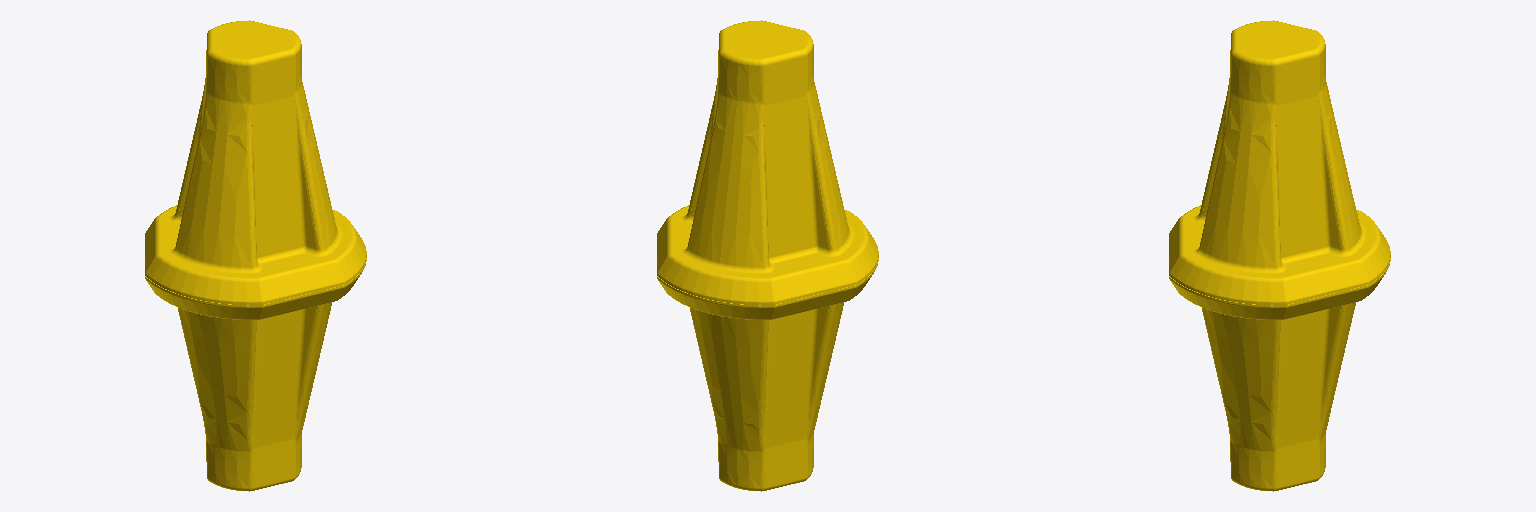
robot.urdf — override_pin_yellow_yellow:
<?xml version='1.0' encoding='utf-8'?>
<robot name="override_pin_yellow_yellow">
  <link name="pin">
    <inertial>
      <mass value="0.075" />
      <origin xyz="0 0 0" rpy="0 0 0" />
      <inertia ixx="0.000183825" iyy="0.000183825" izz="0.000183825" ixy="0" ixz="0" iyz="0" />
    </inertial>
    <visual>
      <geometry>
        <mesh filename="../meshes/override/pin_upper.obj" />
      </geometry>
      <material name=".._meshes_override_pin_upper.obj">
        <color rgba=".98 .83 .05 1" />
      </material>
    </visual>
    <visual>
      <geometry>
        <mesh filename="../meshes/override/pin_lower.obj" />
      </geometry>
      <material name=".._meshes_override_pin_lower.obj">
        <color rgba=".98 .83 .05 1" />
      </material>
    </visual>
    <collision>
      <geometry>
        <mesh filename="pin_root_-1_band_0.stl" />
      </geometry>
    </collision>
    <collision>
      <geometry>
        <mesh filename="pin_root_-1_band_1.stl" />
      </geometry>
    </collision>
    <collision>
      <geometry>
        <mesh filename="pin_root_-1_band_2.stl" />
      </geometry>
    </collision>
    <collision>
      <geometry>
        <mesh filename="pin_root_-1_band_3.stl" />
      </geometry>
    </collision>
    <collision>
      <geometry>
        <mesh filename="pin_root_1_band_0.stl" />
      </geometry>
    </collision>
    <collision>
      <geometry>
        <mesh filename="pin_root_1_band_1.stl" />
      </geometry>
    </collision>
    <collision>
      <geometry>
        <mesh filename="pin_root_1_band_2.stl" />
      </geometry>
    </collision>
    <collision>
      <geometry>
        <mesh filename="pin_root_1_band_3.stl" />
      </geometry>
    </collision>
    <collision>
      <geometry>
        <mesh filename="pin_taper_-1.stl" />
      </geometry>
    </collision>
    <collision>
      <geometry>
        <mesh filename="pin_taper_1.stl" />
      </geometry>
    </collision>
    <collision>
      <geometry>
        <mesh filename="pin_tip_-1.stl" />
      </geometry>
    </collision>
    <collision>
      <geometry>
        <mesh filename="pin_tip_1.stl" />
      </geometry>
    </collision>
    <collision>
      <geometry>
        <mesh filename="pin_flange.stl" />
      </geometry>
    </collision>
  </link>
</robot>

--- Render facts (derived) ---
The picture shows the robot from 3 angles, left to right: view 1: azimuth 30°, elevation 25°; view 2: azimuth 150°, elevation 25°; view 3: azimuth 270°, elevation 25°; orthographic projection.
Model override_pin_yellow_yellow with 1 links and 0 joints (none), rooted at pin, posed every joint at zero.
Links seen in each view (by area): view 1: pin; view 2: pin; view 3: pin.
Link boxes in pixels (x1=…): pin: x1=145, y1=20, x2=366, y2=491; pin: x1=657, y1=20, x2=878, y2=491; pin: x1=1169, y1=20, x2=1390, y2=491.
Bounding box of the posed robot: 0.0803 × 0.0768 × 0.165 m (x, y, z).
2 mesh visuals loaded from 2 distinct referenced files (2 OBJ).
